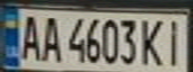0: (100, 16, 121, 65)
3: (118, 16, 142, 66)
4: (63, 14, 87, 63)
6: (81, 15, 103, 64)
A: (15, 11, 42, 62), (36, 12, 63, 63)
I: (160, 16, 190, 68)
K: (136, 16, 169, 68)
